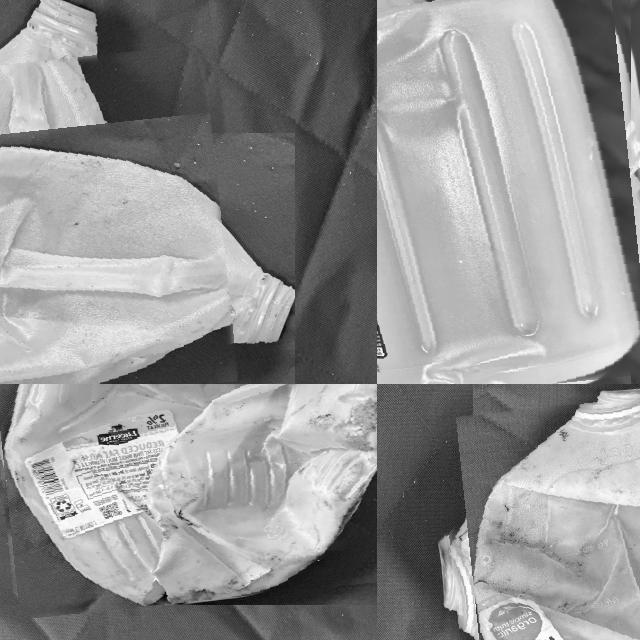milk-jug: (377, 0, 640, 384), (0, 384, 377, 610), (0, 54, 236, 384), (445, 391, 640, 640)
